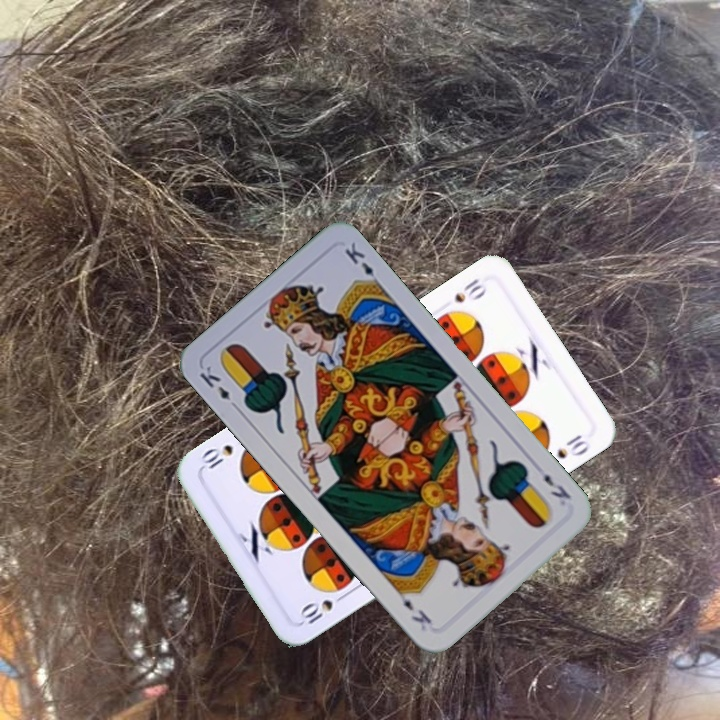EK: (195, 361, 242, 413), (539, 469, 574, 502)
S10: (295, 589, 350, 627), (450, 274, 490, 306)
